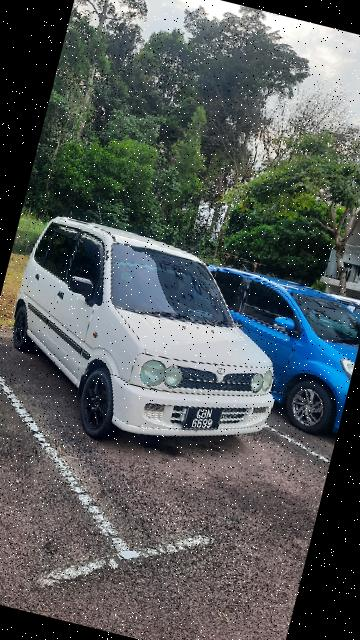License_Plate: (182, 400, 227, 440)
car: (1, 199, 310, 478), (172, 260, 360, 437)
